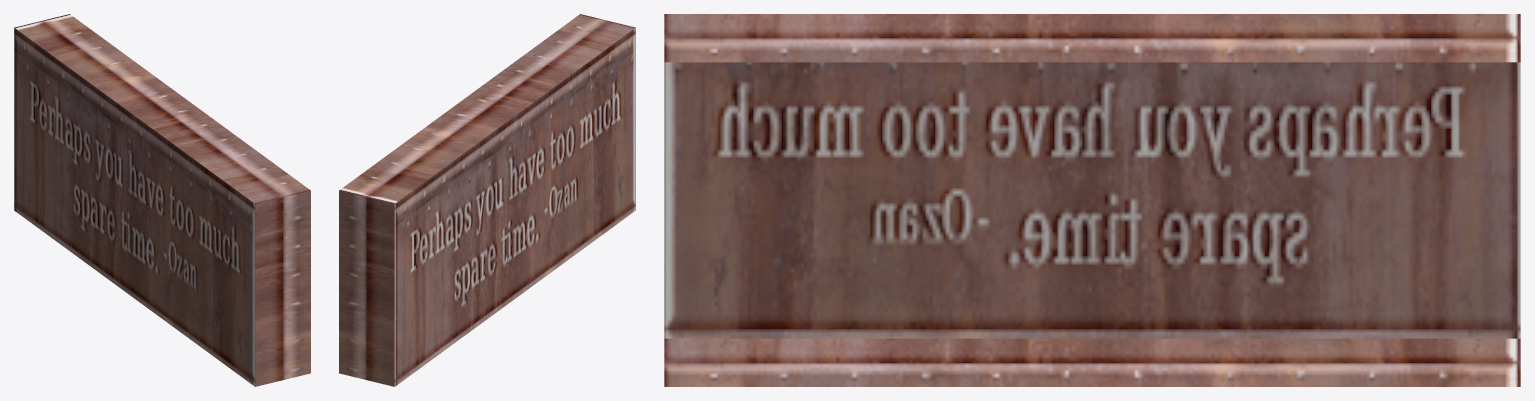
The model's file is ozan_perhapsyouhavetoomuchtime.fbx.
The picture shows the model from 3 angles, left to right: view 1: azimuth 30°, elevation 25°; view 2: azimuth 150°, elevation 25°; view 3: azimuth 270°, elevation 25°; orthographic projection. The views are drawn at different scales.
Parts seen in each view (by area): view 1: Bazaar Complex Easteregg; view 2: Bazaar Complex Easteregg; view 3: Bazaar Complex Easteregg.
Boxes of the visible parts, x1,y1,x2,y2 form: Bazaar Complex Easteregg: (14, 14, 310, 386); Bazaar Complex Easteregg: (339, 14, 635, 386); Bazaar Complex Easteregg: (664, 14, 1520, 386).
Bounding box in the file's own units: 0.3361 × 1.06 × 2.52.
